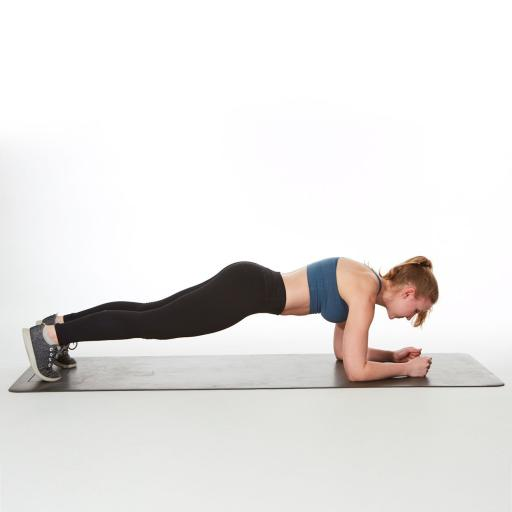Normal_BrenchPress: (21, 256, 440, 384)
